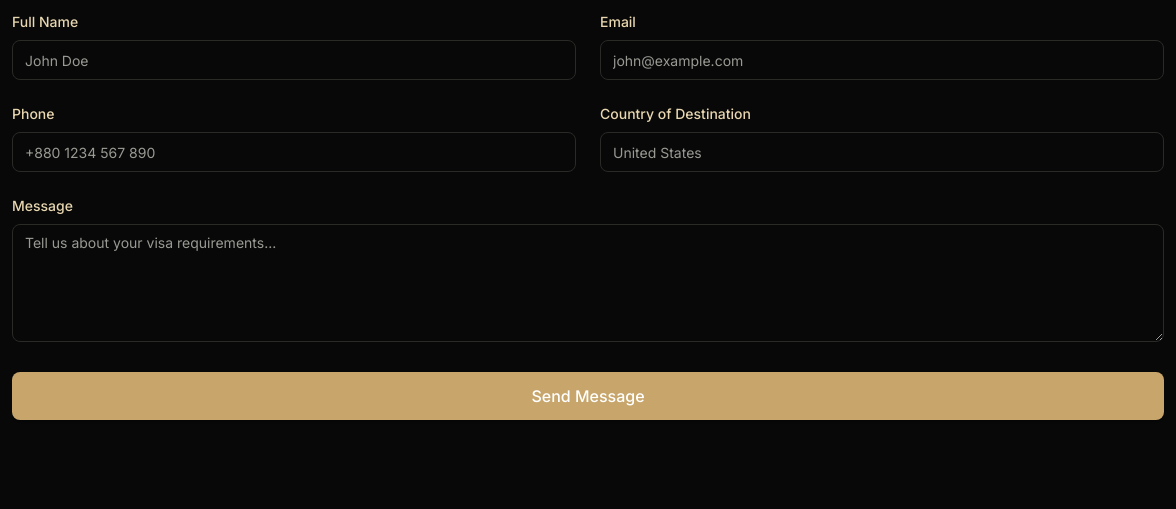
Test case: ContactForm › shows validation errors for invalid input
The width and height of the screenshot is (1176, 509).
Step 1. Click the button "Send Message" → [588, 396], box left=12, top=372, right=1164, bottom=420
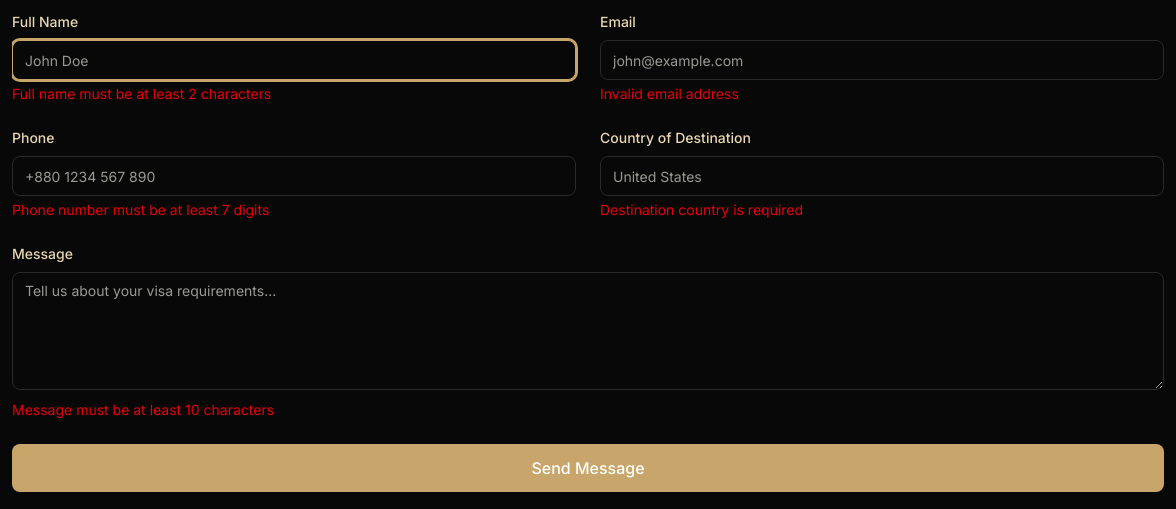
Result: the text "Full name must be at least 2 characters" is shown at left=12, top=85, right=271, bottom=102
Result: the text "Invalid email address" is shown at left=600, top=85, right=739, bottom=102
